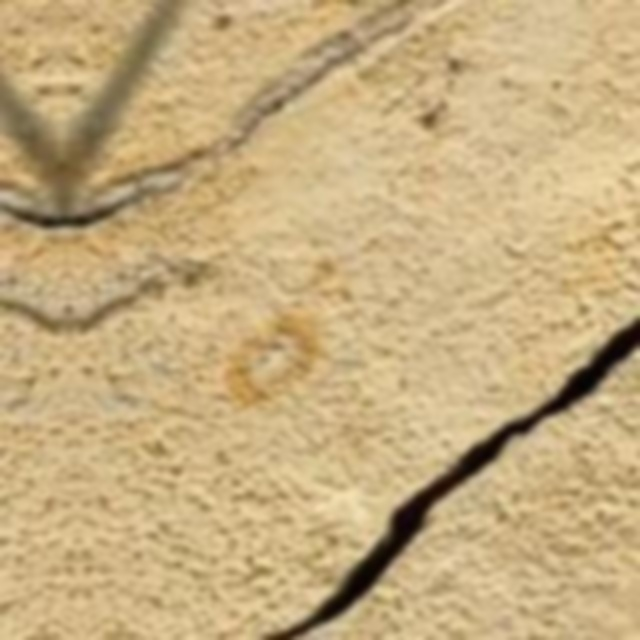SurfaceCrack: (224, 292, 640, 640)
